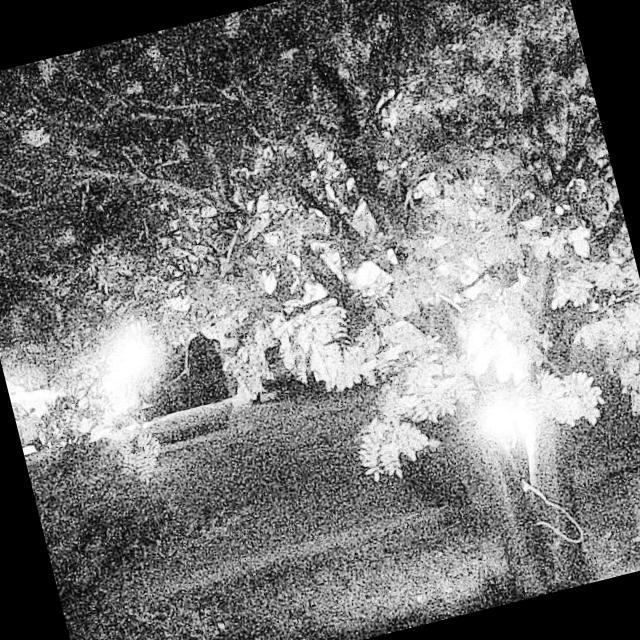Tree: (197, 0, 640, 640)
